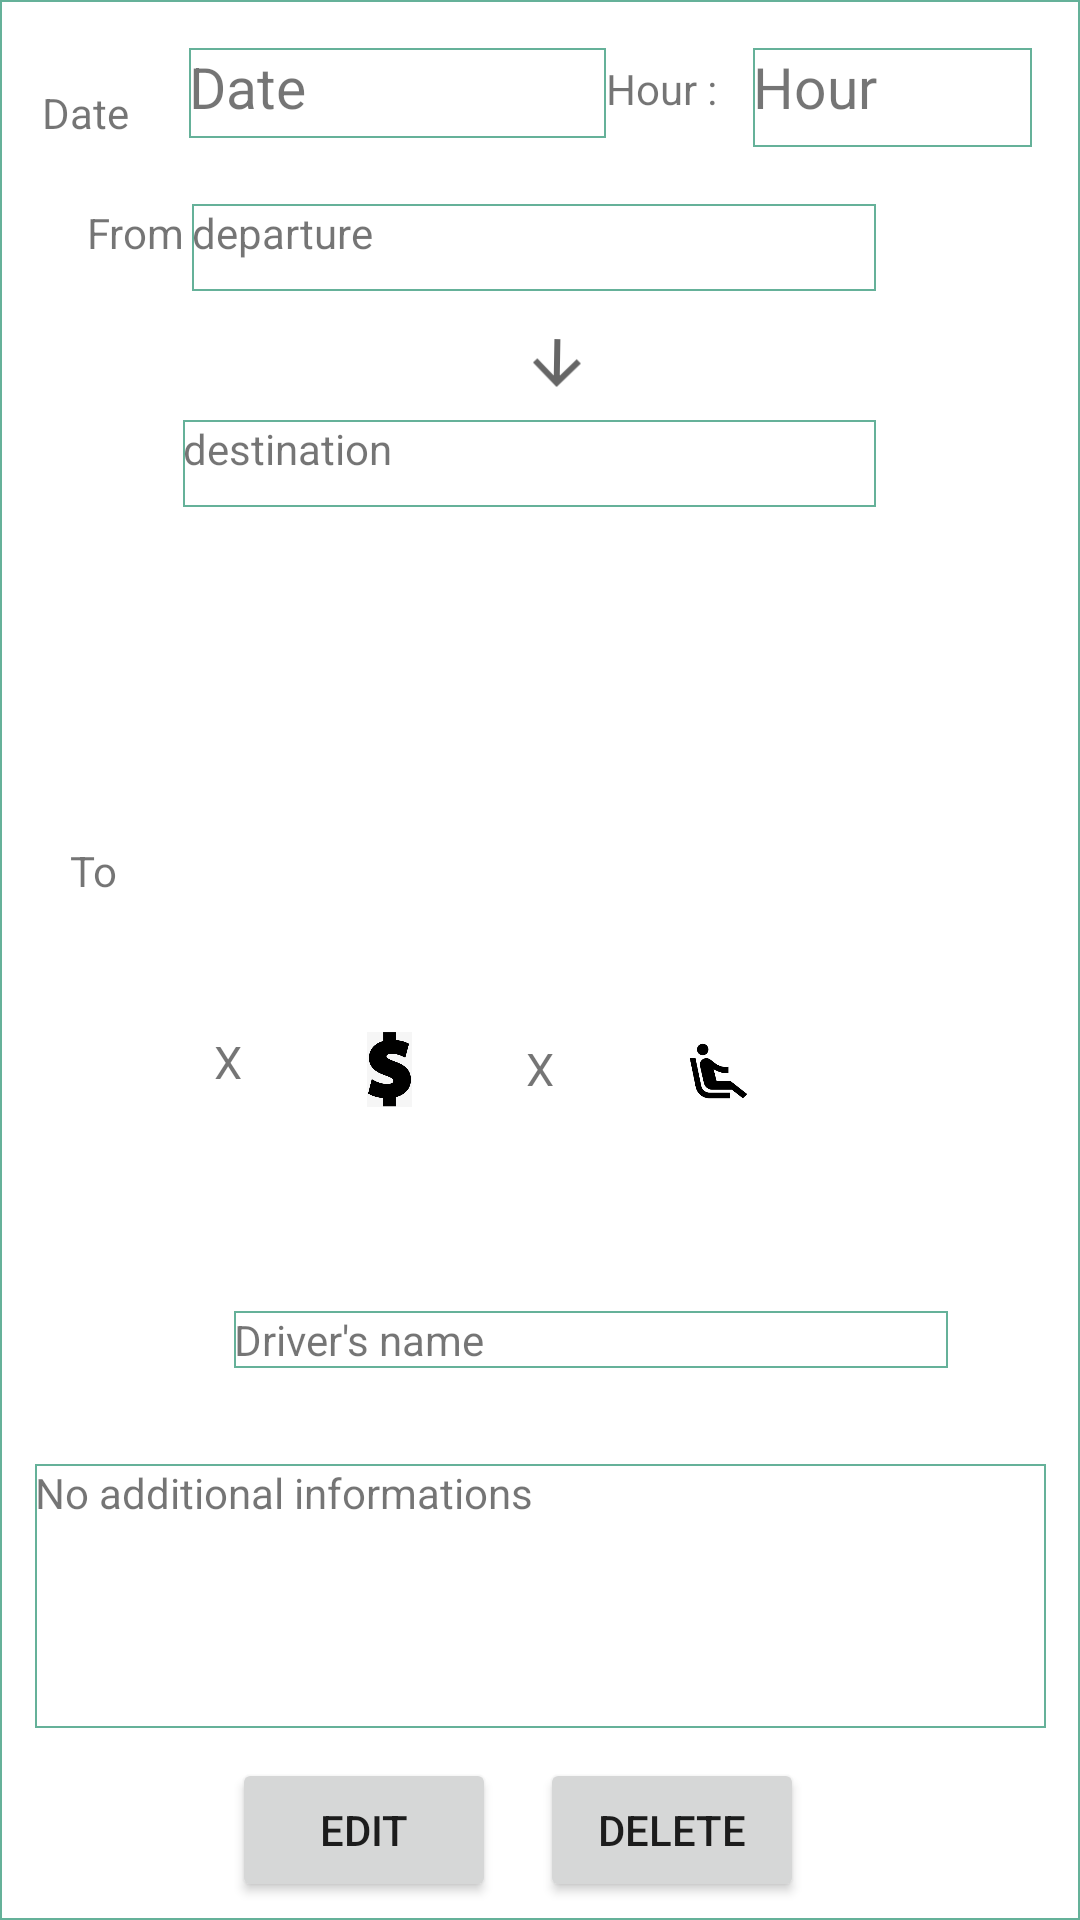

Icon bounding boxes for this 1080px×1920px phone screenshot, format (x1=x1, y1=y1, x2=x2, y2=y2):
dollars: (x1=368, y1=1032, x2=411, y2=1107)
seats: (x1=690, y1=1044, x2=747, y2=1099)
